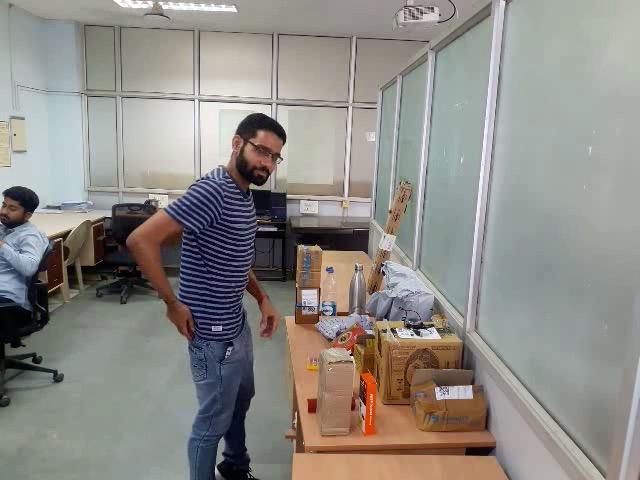shoplifting: (152, 284, 206, 400)
